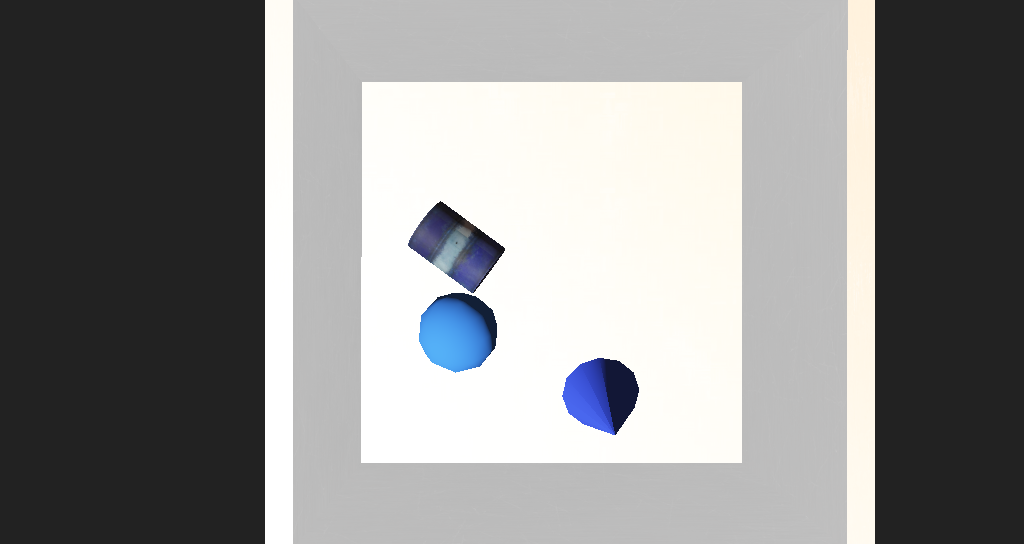cone: (387, 231, 475, 284)
cylinder: (515, 315, 589, 382)
sphere: (397, 277, 465, 324)
